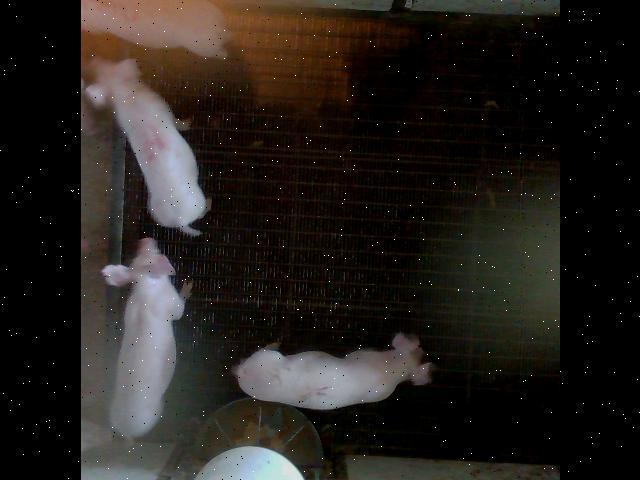pig-3: (82, 0, 228, 59)
pig-4: (89, 59, 205, 235)
